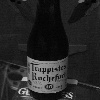beer: (25, 8, 73, 100)
